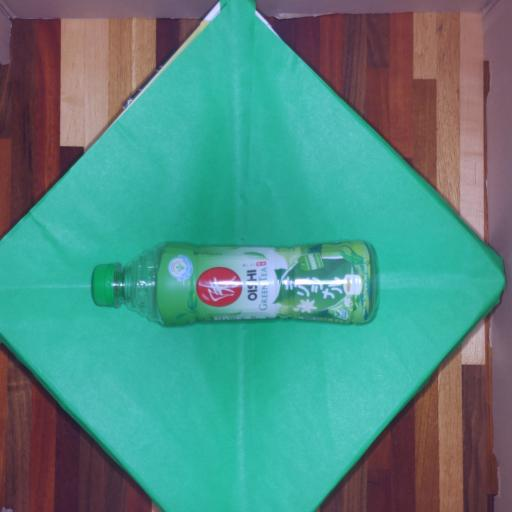bottle: (83, 229, 396, 336)
